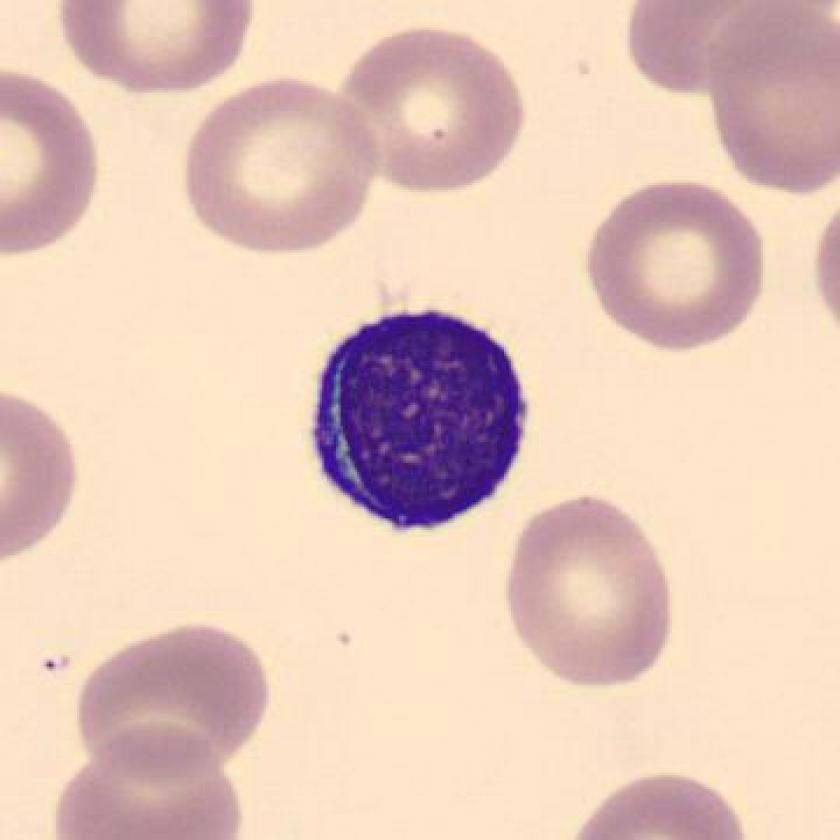lymphocyte: (300, 293, 542, 552)
